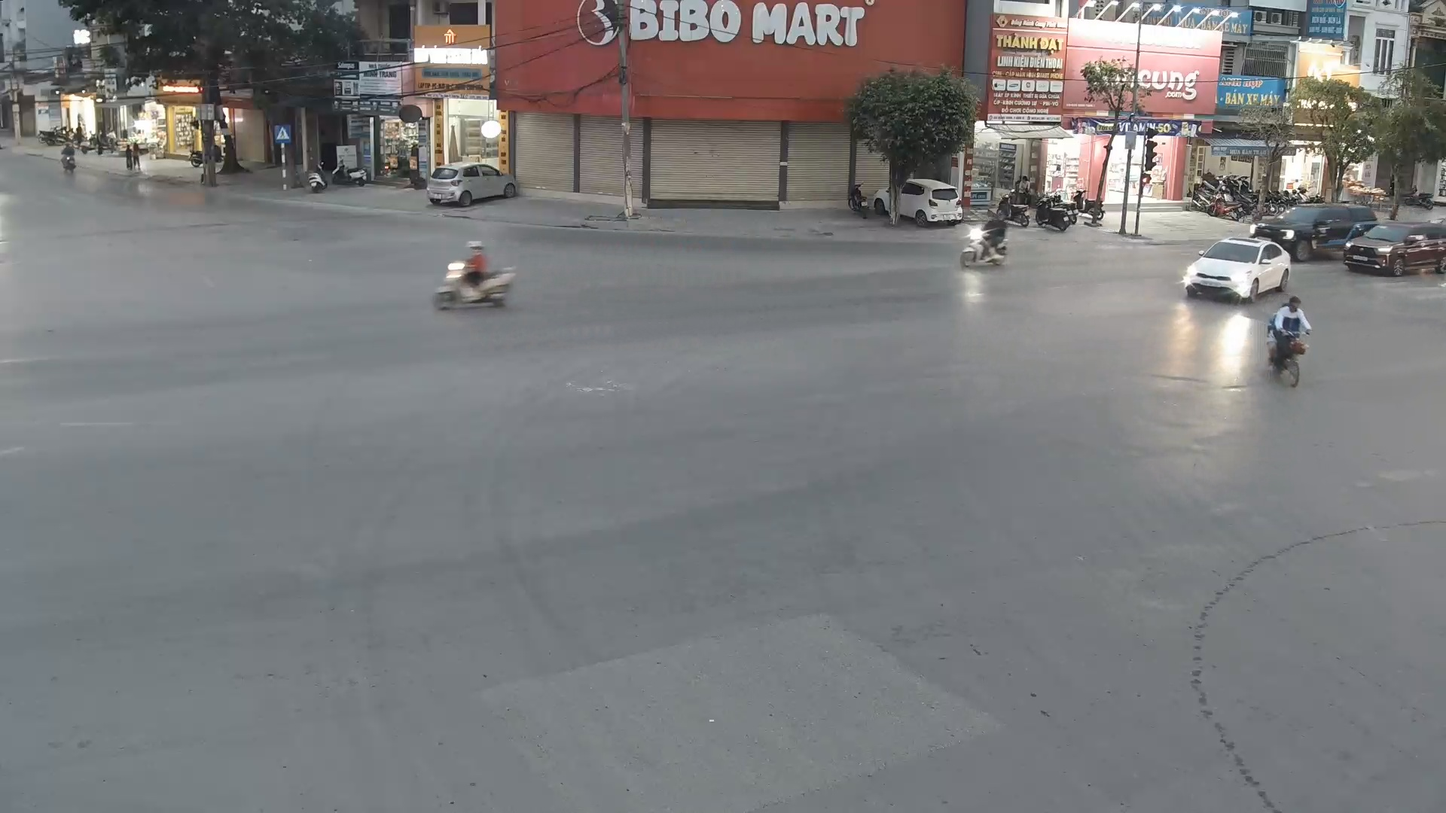car: (1249, 200, 1373, 265), (1182, 233, 1292, 304), (1342, 216, 1445, 278), (425, 161, 520, 210)
motorbike: (430, 239, 518, 313), (1263, 293, 1313, 388), (959, 212, 1010, 270)
